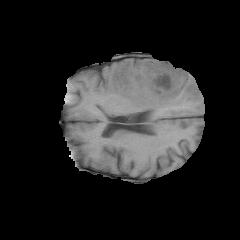glioma: (111, 59, 199, 110)
